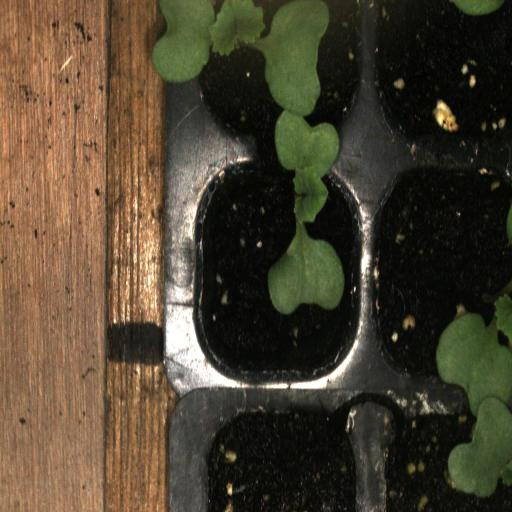Folha: (436, 295, 512, 498)
Germinacao: (184, 150, 369, 384), (186, 0, 369, 149)
